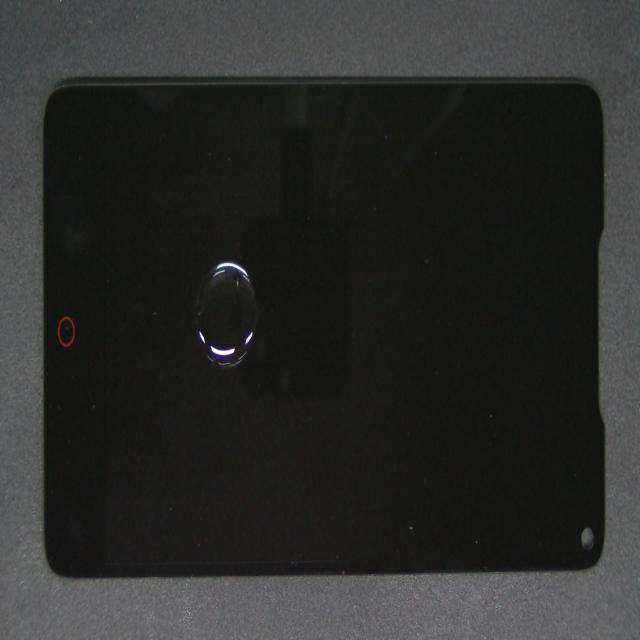oil: (175, 246, 271, 388)
